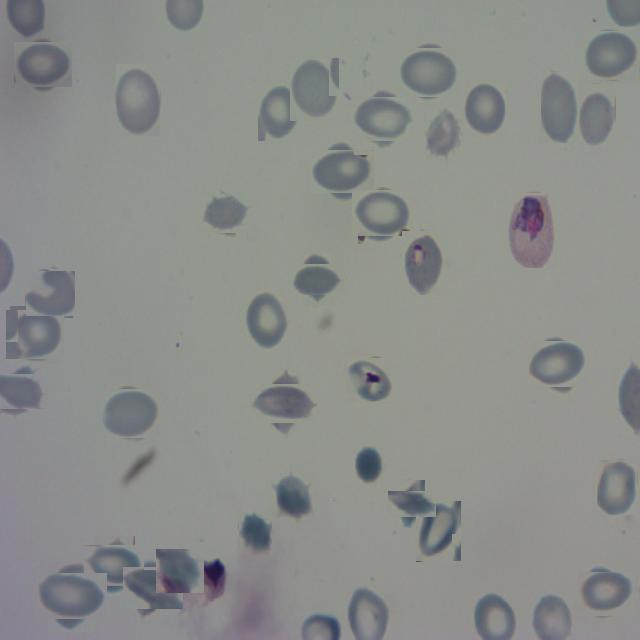leukocyte: (42, 567, 101, 626), (290, 58, 340, 122), (116, 64, 160, 136), (401, 44, 456, 100), (103, 386, 158, 441), (538, 72, 580, 144), (532, 337, 586, 391), (356, 92, 410, 146), (315, 145, 369, 199), (584, 28, 638, 82), (8, 308, 62, 362), (354, 187, 408, 240), (258, 377, 311, 430), (416, 501, 462, 562), (246, 290, 290, 352), (16, 39, 68, 91), (127, 562, 179, 614), (89, 540, 140, 592), (581, 568, 631, 618), (462, 82, 507, 137), (258, 83, 300, 141), (576, 89, 616, 148), (26, 270, 74, 318), (156, 548, 204, 594), (597, 460, 637, 515), (346, 357, 392, 402), (205, 191, 250, 236), (426, 108, 462, 163), (274, 472, 313, 522), (0, 369, 42, 415), (298, 259, 340, 301), (239, 511, 272, 555), (393, 486, 430, 522), (355, 446, 386, 486)
red blood cell: (402, 231, 444, 295)
schizont: (508, 193, 558, 268)
